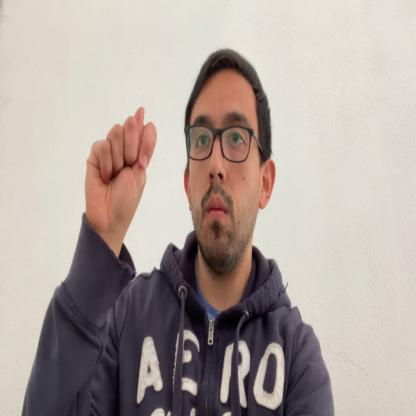T: (84, 107, 157, 236)
